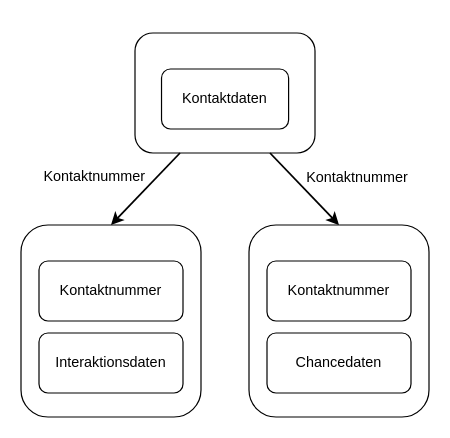
Some shapes in this 450 by 438 pixel diagram are drawn without their labels. The box of each missing label's shape, as (x1, y1, x2, y2) in pixels:
Chanchenverwaltung: (248, 224, 429, 417)
Interaktionsverwaltung: (20, 224, 201, 417)
Kontaktverwaltung: (134, 32, 315, 153)
